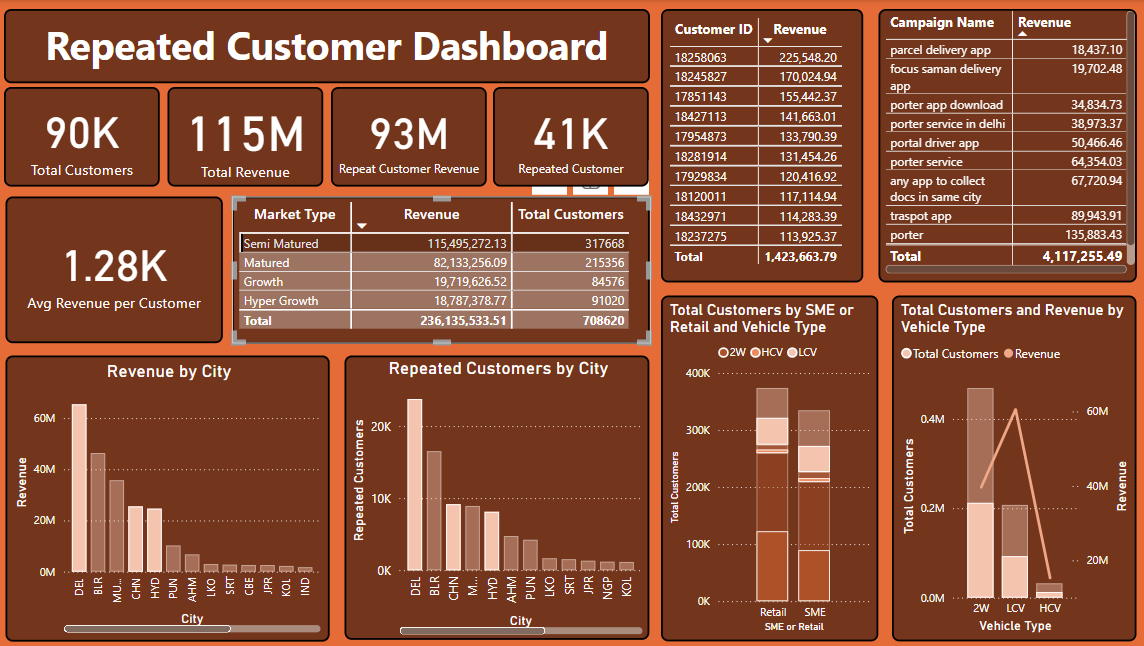

The page's visual inventory and layout, read from the dashboard file:
{"tool":"powerbi","page":{"name":"Repeated Customer Dashboard","canvas":[1280,720],"ordinal":0},"visuals":[{"type":"lineClusteredColumnComboChart","fields":{"Category":["df_Repeated_Orders_unique.VEHICLE_TYPE"],"Y":["CountNonNull(df_Repeated_Orders_unique.CUSTOMER_ID)"],"Y2":["Sum(df_Repeated_Orders_unique.CUSTOMER_FARE)"]},"box":[993.3,326.7,270,381.7],"z":0},{"type":"lineClusteredColumnComboChart","fields":{"Category":["df_Repeated_Orders_unique.GEO_REGION_CITY"],"Y":["Sum(df_Repeated_Orders_unique.CUSTOMER_FARE)"]},"box":[15,392.1,357.9,315.7],"z":1000},{"type":"columnChart","fields":{"Category":["df_Repeated_Orders_unique.FREQ_SME_RETAILS"],"Y":["CountNonNull(df_Repeated_Orders_unique.CUSTOMER_ID)"],"Series":["df_Repeated_Orders_unique.VEHICLE_TYPE"]},"box":[738.3,326.7,240,381.7],"z":2000},{"type":"tableEx","fields":{"Values":["df_Repeated_Orders_unique.MARKET_TYPE","Sum(df_Repeated_Orders_unique.CUSTOMER_FARE)","CountNonNull(df_Repeated_Orders_unique.CUSTOMER_ID)"]},"box":[265.7,217.1,461.4,162.9],"z":3000},{"type":"clusteredColumnChart","fields":{"Category":["df_Repeated_Orders_unique.GEO_REGION_CITY"],"Y":["df_Repeated_Orders_unique.Repeated_Customer_Count"]},"box":[390,392.1,336.4,314.3],"z":4000},{"type":"pivotTable","fields":{"Rows":["df_Repeated_Orders_unique.CUSTOMER_ID"],"Values":["Sum(df_Repeated_Orders_unique.CUSTOMER_FARE)"]},"box":[738.3,10,223.3,301.7],"z":5000},{"type":"card","fields":{"Values":["df_Repeated_Orders_unique.Total_Customers"]},"box":[14,96,172,110],"z":6000},{"type":"card","fields":{"Values":["df_Repeated_Orders_unique.Repeated_Customer_Count"]},"box":[554,96,172,110],"z":7000},{"type":"card","fields":{"Values":["df_Repeated_Orders_unique.Total_Revenue"]},"box":[194,96,172,110],"z":8000},{"type":"card","fields":{"Values":["df_Repeated_Orders_unique.Repeat_Customer_Revenue"]},"box":[374,96,172,110],"z":9000},{"type":"tableEx","fields":{"Values":["df_Repeated_Orders_unique_saved.CAMPAIGN_NAME","Sum(df_Repeated_Orders_unique_saved.total_revenue)"]},"box":[978.3,10,285,301.7],"z":10000},{"type":"textbox","box":[14,10,713,82],"z":11000},{"type":"card","fields":{"Values":["df_Repeated_Orders_unique.Avg_Revenue_Per_Customer"]},"box":[14.3,217.1,240,162.1],"z":12000}]}

Visuals, with their boxes in screenshot pixels (x1, y1, x2, y2), scaled from the page's 1280x720 canvas onto the 1144x646 screenshot:
lineClusteredColumnComboChart - df_Repeated_Orders_unique.VEHICLE_TYPE x CountNonNull(df_Repeated_Orders_unique.CUSTOMER_ID): (left=888, top=293, right=1129, bottom=636)
lineClusteredColumnComboChart - df_Repeated_Orders_unique.GEO_REGION_CITY x Sum(df_Repeated_Orders_unique.CUSTOMER_FARE): (left=13, top=352, right=333, bottom=635)
columnChart - df_Repeated_Orders_unique.FREQ_SME_RETAILS x CountNonNull(df_Repeated_Orders_unique.CUSTOMER_ID): (left=660, top=293, right=874, bottom=636)
tableEx - df_Repeated_Orders_unique.MARKET_TYPE x Sum(df_Repeated_Orders_unique.CUSTOMER_FARE): (left=237, top=195, right=650, bottom=341)
clusteredColumnChart - df_Repeated_Orders_unique.GEO_REGION_CITY x df_Repeated_Orders_unique.Repeated_Customer_Count: (left=349, top=352, right=649, bottom=634)
pivotTable - df_Repeated_Orders_unique.CUSTOMER_ID x Sum(df_Repeated_Orders_unique.CUSTOMER_FARE): (left=660, top=9, right=859, bottom=280)
card - df_Repeated_Orders_unique.Total_Customers: (left=13, top=86, right=166, bottom=185)
card - df_Repeated_Orders_unique.Repeated_Customer_Count: (left=495, top=86, right=649, bottom=185)
card - df_Repeated_Orders_unique.Total_Revenue: (left=173, top=86, right=327, bottom=185)
card - df_Repeated_Orders_unique.Repeat_Customer_Revenue: (left=334, top=86, right=488, bottom=185)
tableEx - df_Repeated_Orders_unique_saved.CAMPAIGN_NAME x Sum(df_Repeated_Orders_unique_saved.total_revenue): (left=874, top=9, right=1129, bottom=280)
textbox: (left=13, top=9, right=650, bottom=83)
card - df_Repeated_Orders_unique.Avg_Revenue_Per_Customer: (left=13, top=195, right=227, bottom=340)
